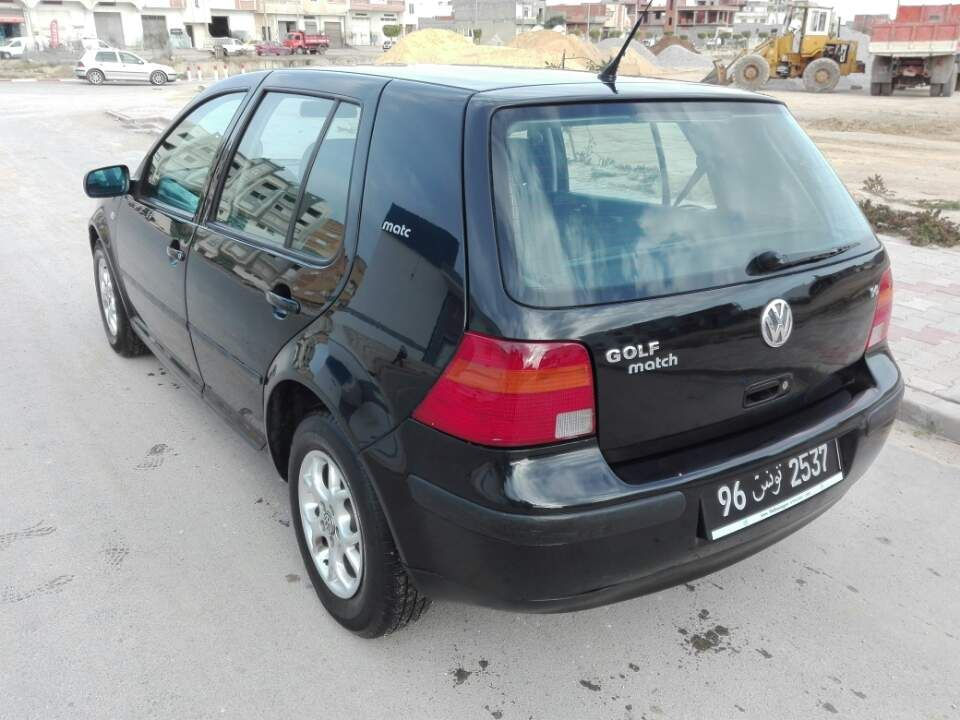LP: (701, 435, 847, 542)
